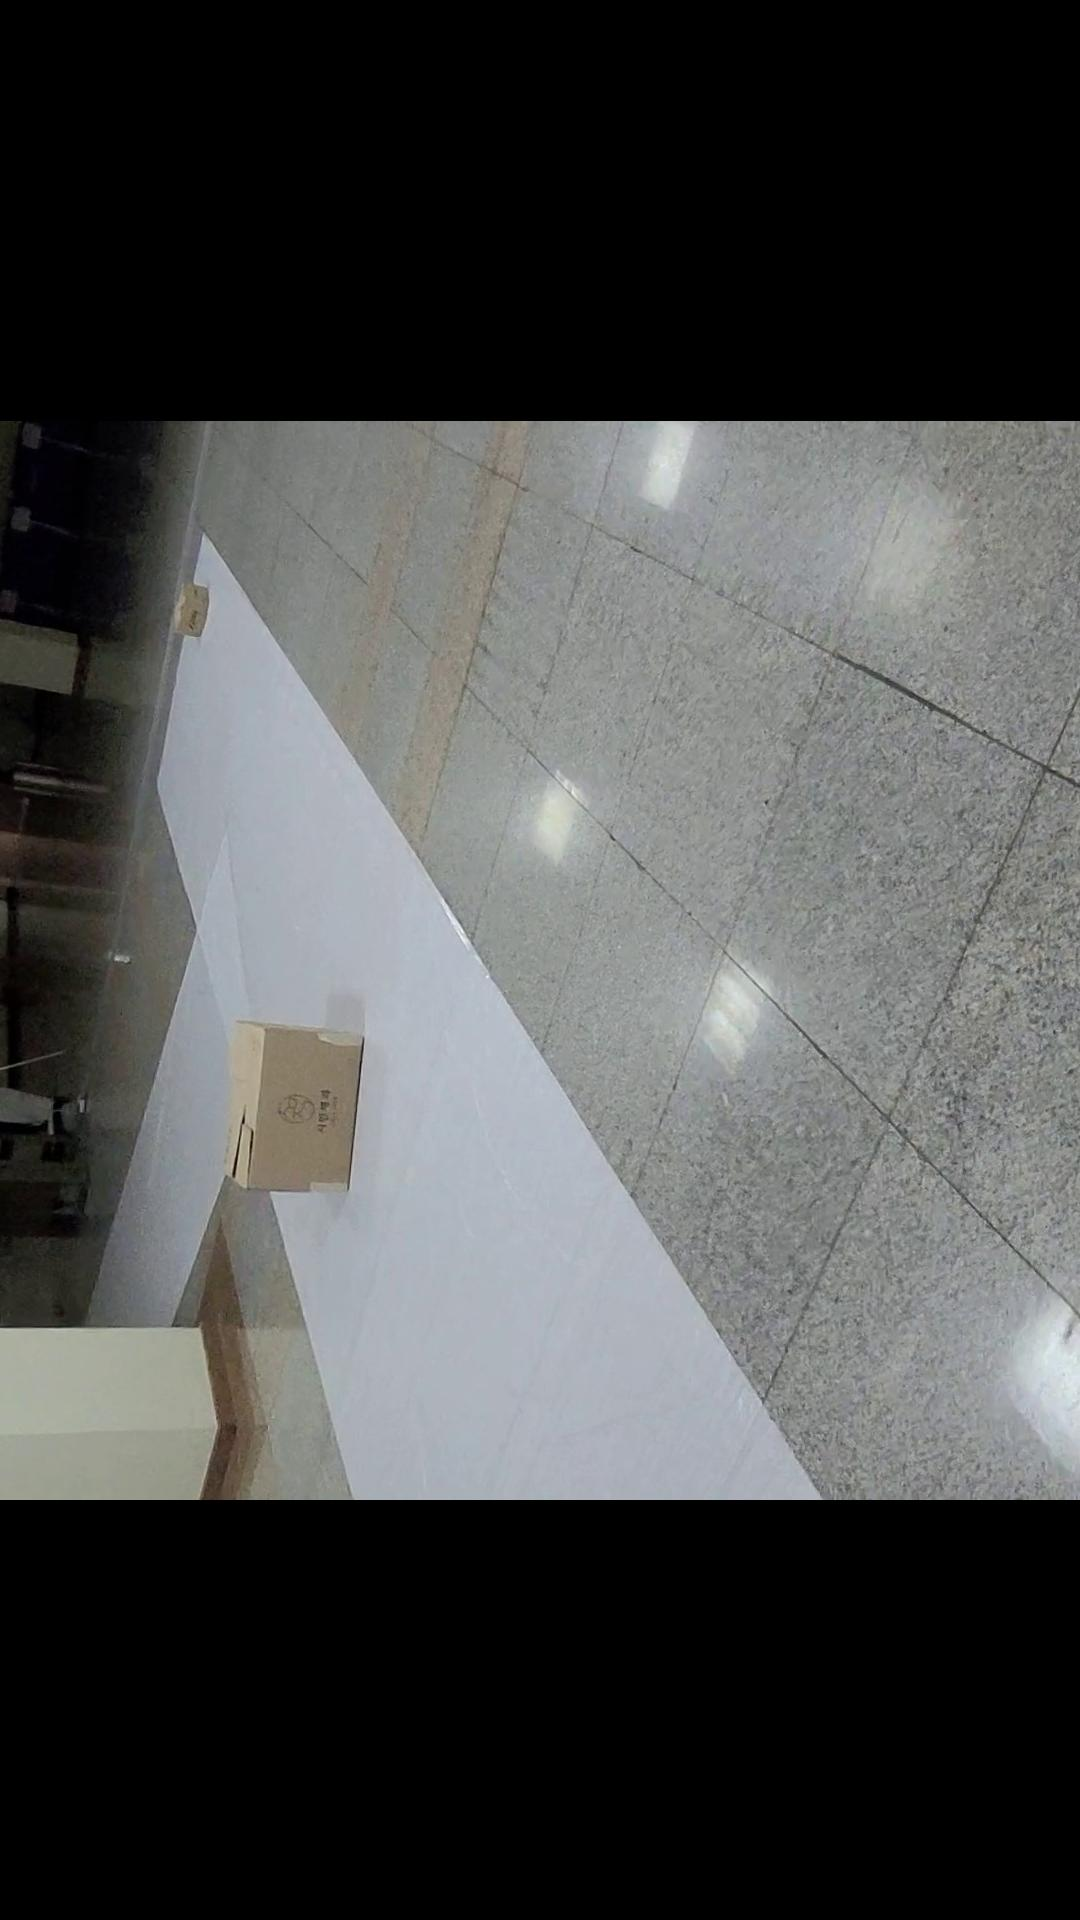Box: (210, 975, 380, 1234), (153, 568, 240, 644)
